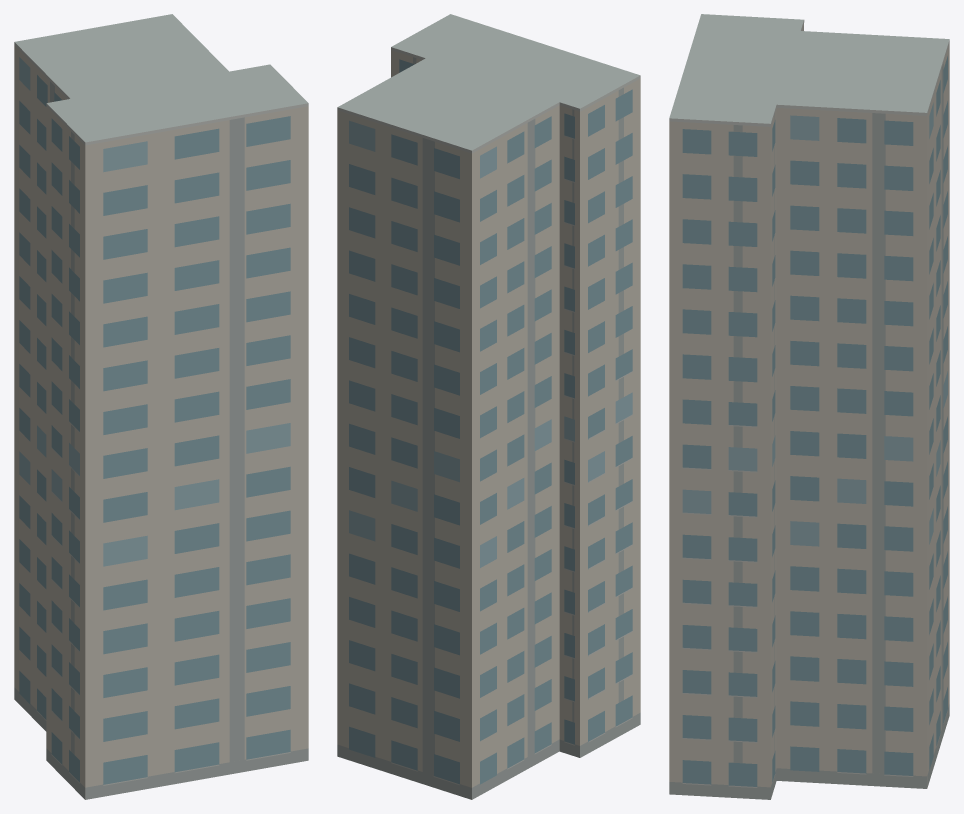
File: residential-1b8cc136-7dbd-4612-a217-e2f7e3e98e61.glb
3 renders of one model, left to right at view 1: azimuth 30°, elevation 25°; view 2: azimuth 150°, elevation 25°; view 3: azimuth 270°, elevation 25°, orthographic. The views are drawn at different scales.
Parts seen in each view (by area): view 1: residential-1b8cc136-7dbd-4612-a217-e2f7e3e98e61.tmp; view 2: residential-1b8cc136-7dbd-4612-a217-e2f7e3e98e61.tmp; view 3: residential-1b8cc136-7dbd-4612-a217-e2f7e3e98e61.tmp.
Boxes of the visible parts, left/top/right/bottom form: residential-1b8cc136-7dbd-4612-a217-e2f7e3e98e61.tmp: left=14, top=14, right=308, bottom=799; residential-1b8cc136-7dbd-4612-a217-e2f7e3e98e61.tmp: left=337, top=14, right=640, bottom=799; residential-1b8cc136-7dbd-4612-a217-e2f7e3e98e61.tmp: left=669, top=14, right=949, bottom=799.
Bounding box in the file's own units: 18.83 × 54 × 20.32.
